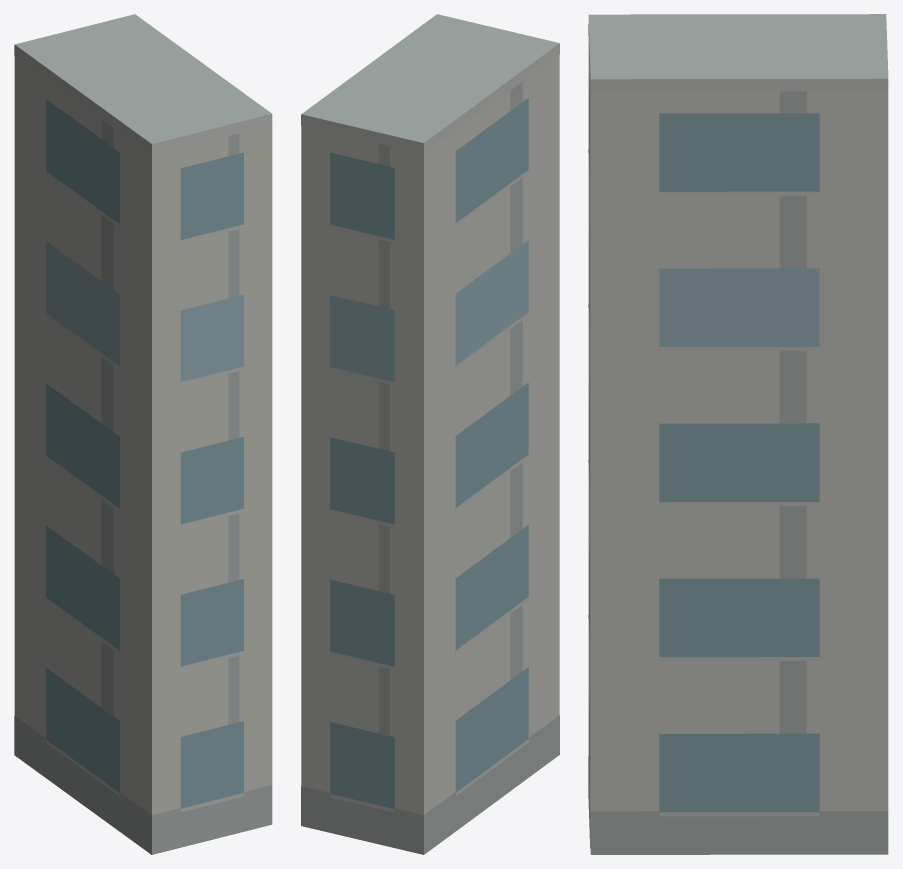
File: survey-upis-32634728.glb
3 renders of one model, left to right at view 1: azimuth 30°, elevation 25°; view 2: azimuth 150°, elevation 25°; view 3: azimuth 270°, elevation 25°, orthographic. The views are drawn at different scales.
Parts seen in each view (by area): view 1: survey-upis-32634728.tmp; view 2: survey-upis-32634728.tmp; view 3: survey-upis-32634728.tmp.
Part boxes in pixels (x1,y1,x2,y2): survey-upis-32634728.tmp: [14, 14, 272, 854]; survey-upis-32634728.tmp: [301, 14, 559, 854]; survey-upis-32634728.tmp: [588, 14, 888, 854].
Bounding box in the file's own units: 2.76 × 15.25 × 5.36.
